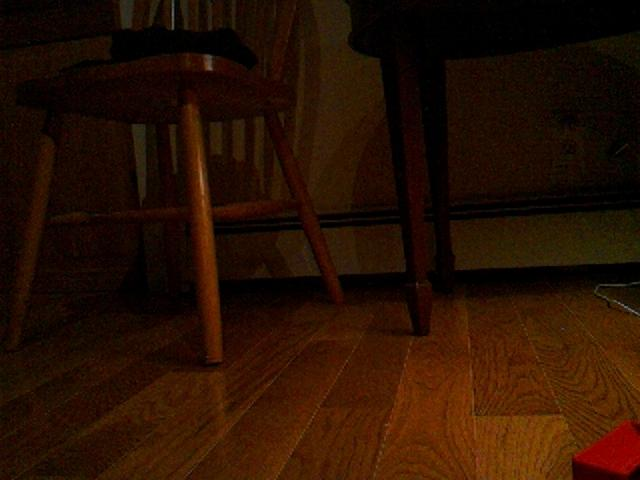red: (571, 419, 640, 480)
